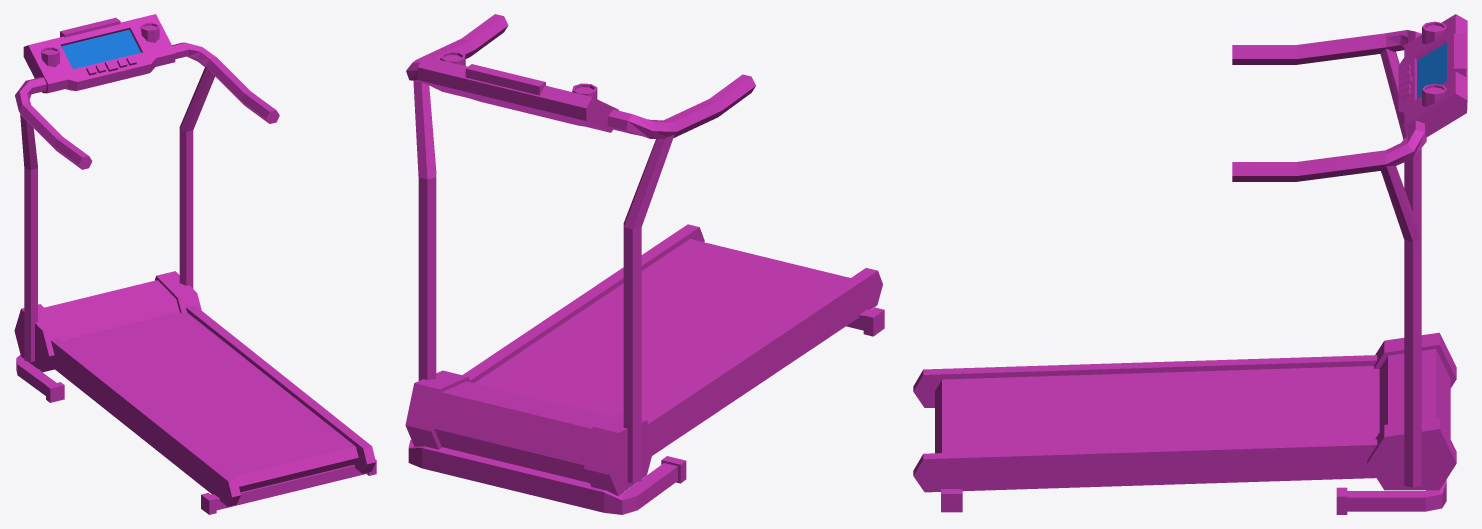
File: SM_treadmill.fbx
3 renders of one model, left to right at view 1: azimuth 30°, elevation 25°; view 2: azimuth 150°, elevation 25°; view 3: azimuth 270°, elevation 25°, orthographic. The views are drawn at different scales.
Parts seen in each view (by area): view 1: treadmill; view 2: treadmill; view 3: treadmill.
Boxes of the visible parts, box(x1,y1,x2,y2) form: treadmill: box(14, 14, 376, 514); treadmill: box(405, 14, 884, 514); treadmill: box(913, 14, 1467, 514).
Bounding box in the file's own units: 95.7 × 145 × 179.
